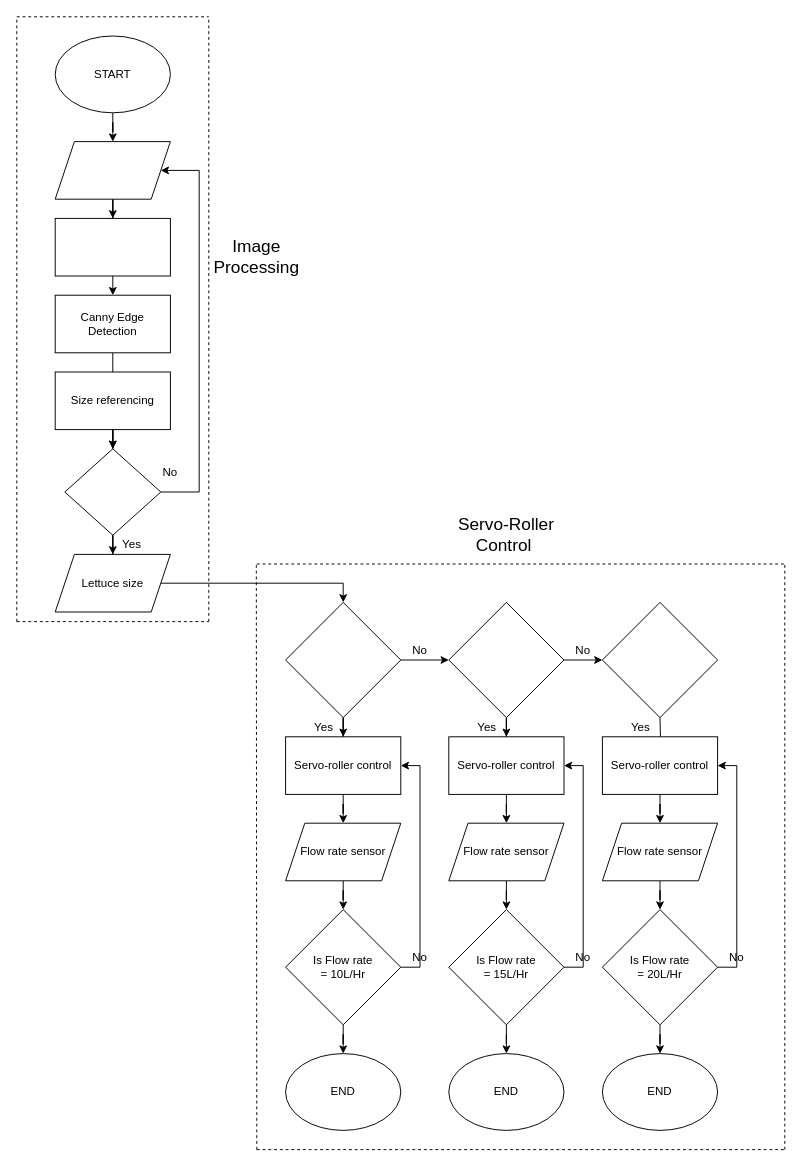
This 803x1167 diagram has some shape labels left out. Here are the shapes that lost their labels. From the top down, the centre of each, then its label:
pixel 112 170: Input Image
pixel 112 246: Image Grayscale
pixel 112 491: Lettuce Detected?
pixel 343 659: is Lettuce Size < 3inch ?
pixel 506 659: is Lettuce Size > 3inches and < 4 inches?
pixel 659 659: is Lettuce Size > 4inches
